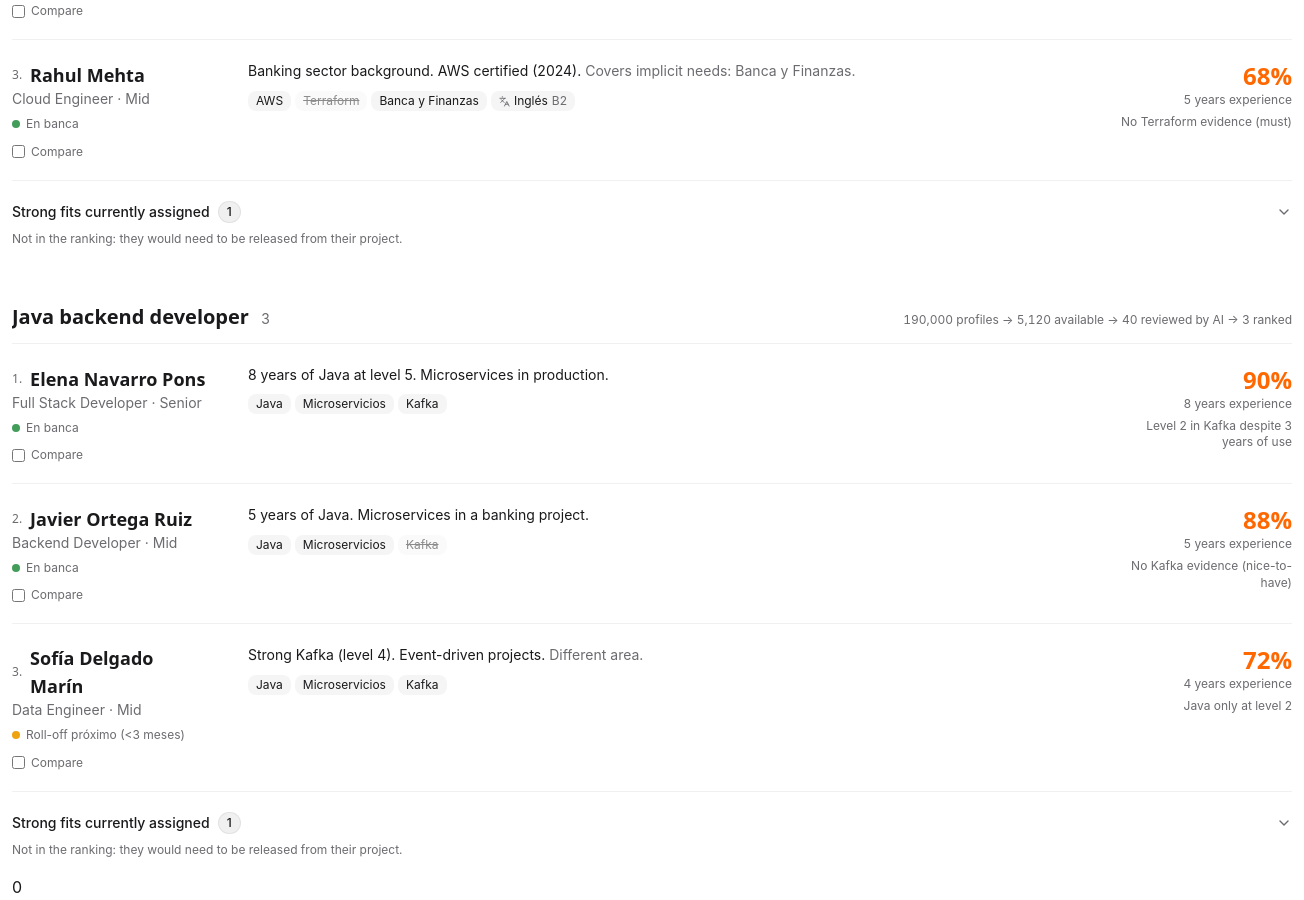
Test case: All-role display projection › renders and compares suggested profiles in the second role alongside ranked profiles
The image size is (1304, 900).
(page scrolled)
Click the button "Strong fits currently assigned 1" below "Data Engineer" at (111, 822), box [12, 808, 1292, 838]
(page scrolled)
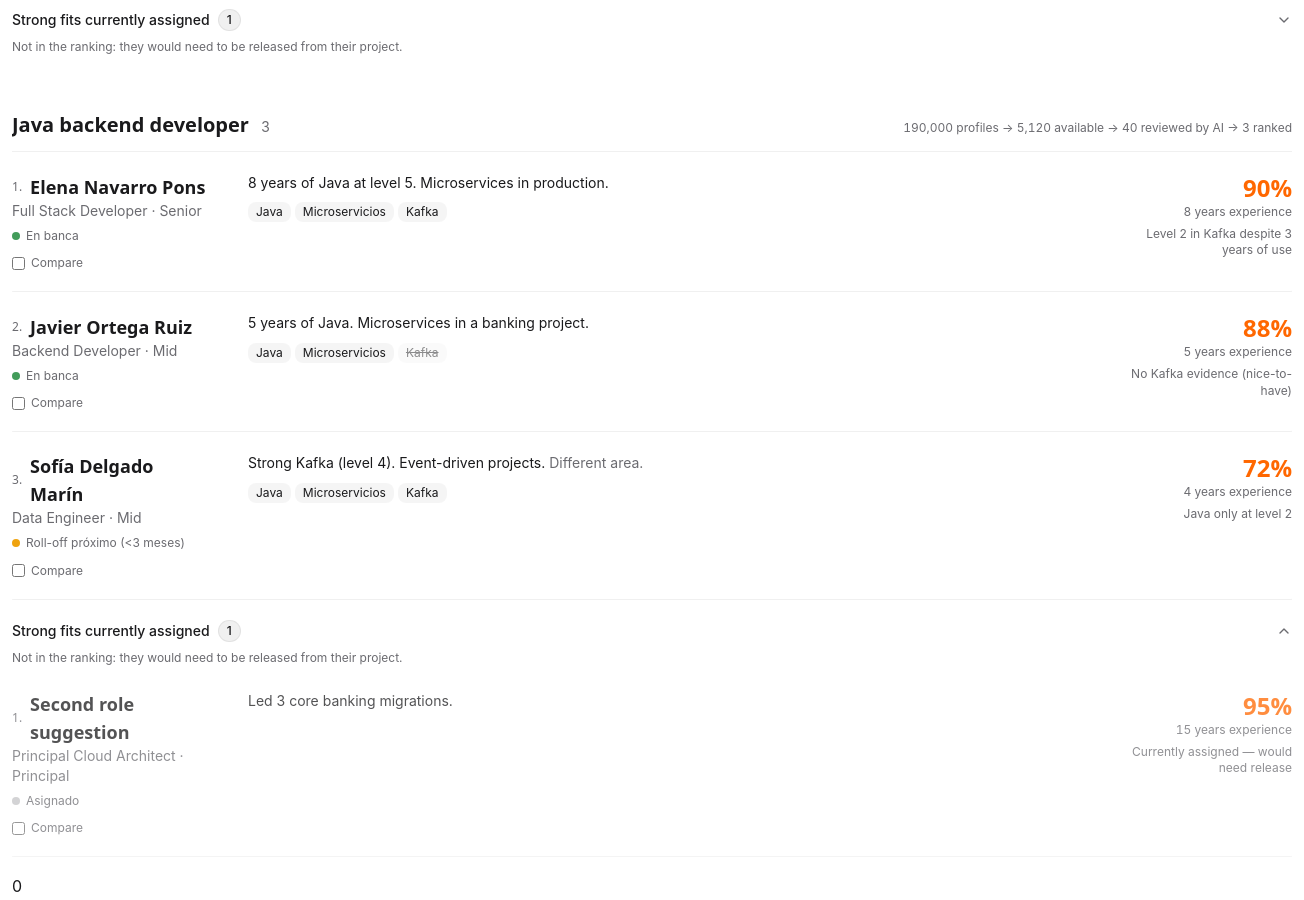
Click the checkbox named "Compare Second role suggestion" at (18, 828), box [12, 822, 25, 835]
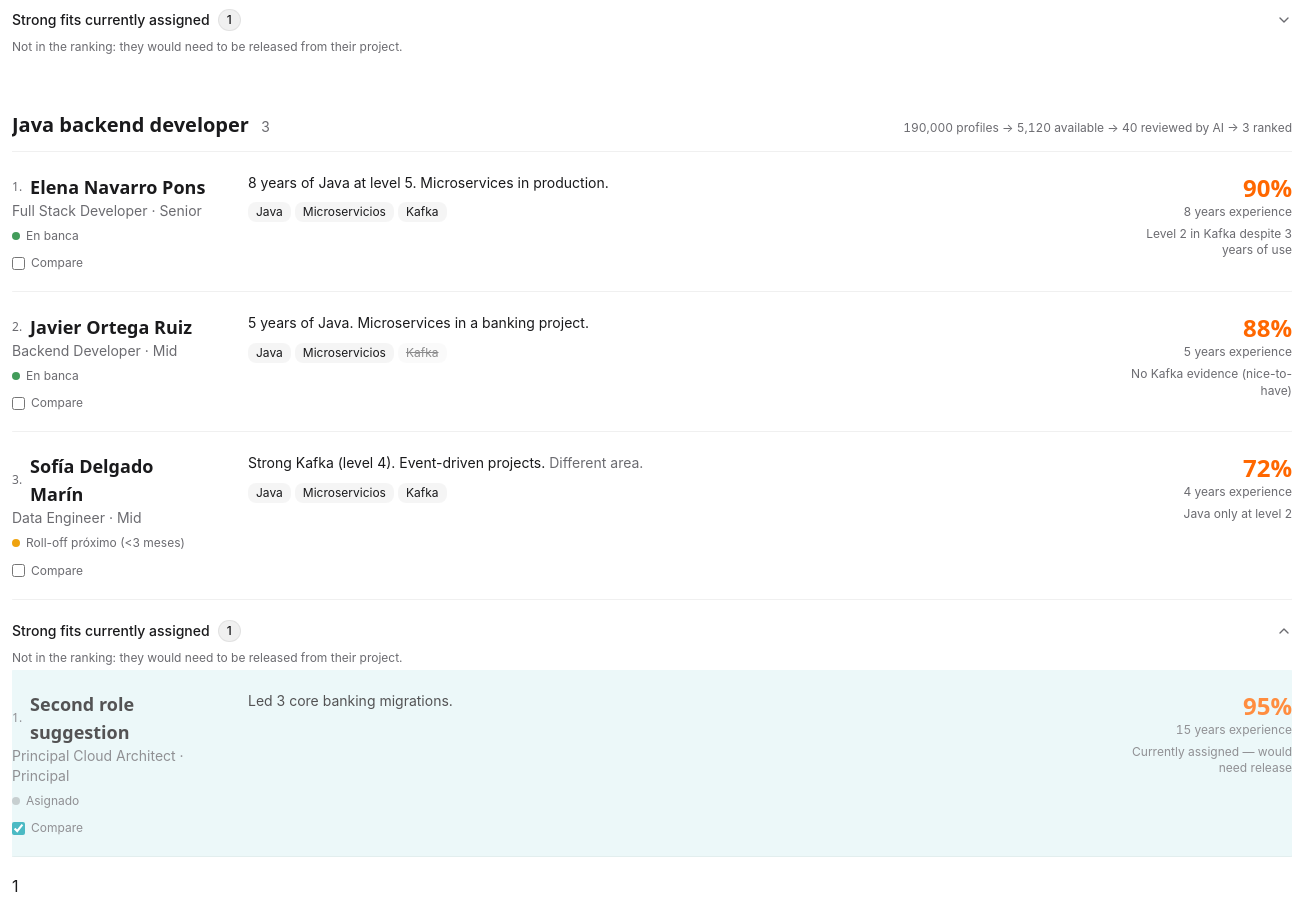
Click the checkbox named "Compare Javier Ortega Ruiz" at (18, 404), box [12, 397, 25, 410]
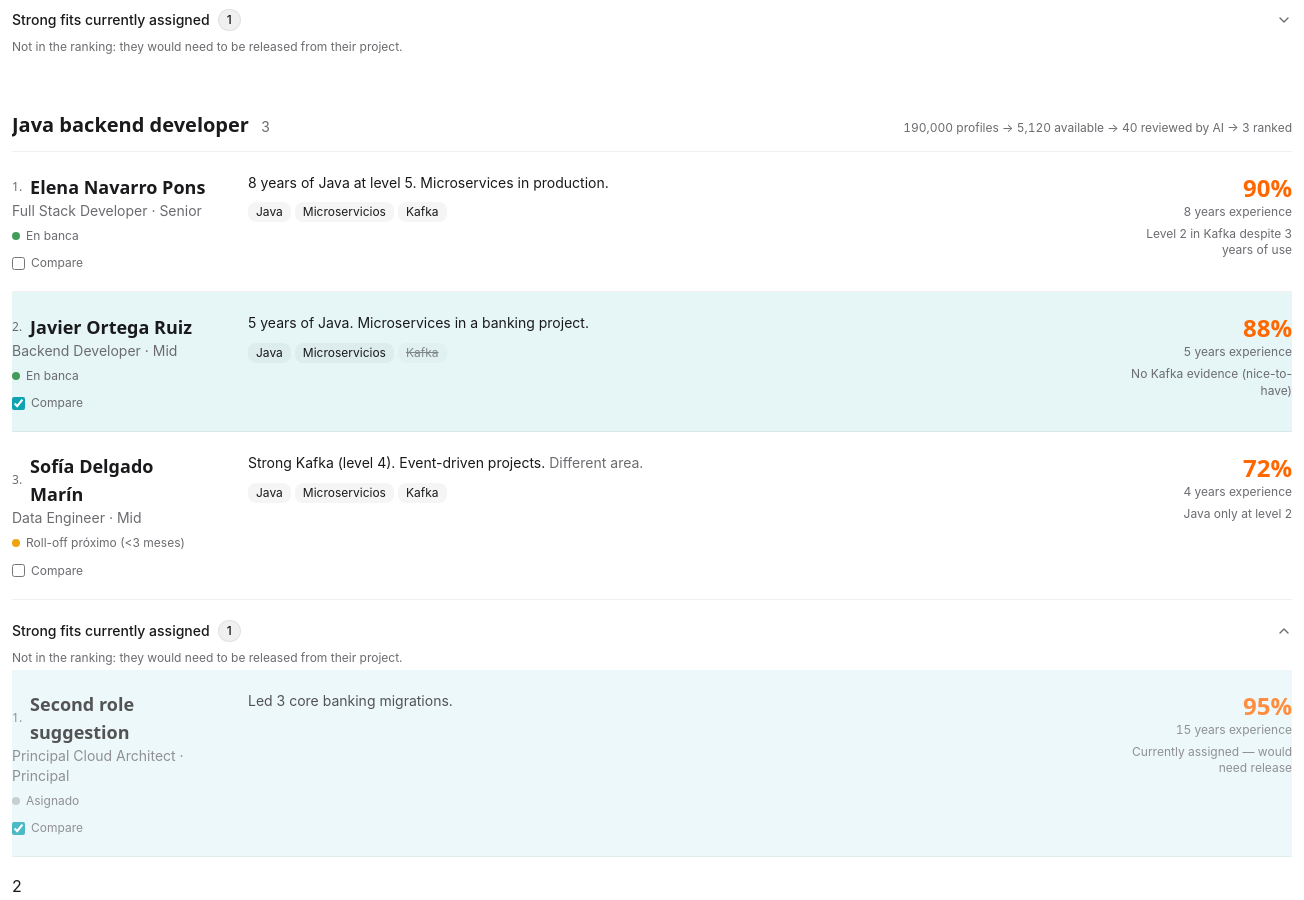
Expected: the checkbox named "Compare Second role suggestion" is checked, [12, 822, 25, 835]
Expected: the checkbox named "Compare Javier Ortega Ruiz" is checked, [12, 397, 25, 410]
Expected: the text named "selected profiles" reads "2", [12, 876, 22, 896]
